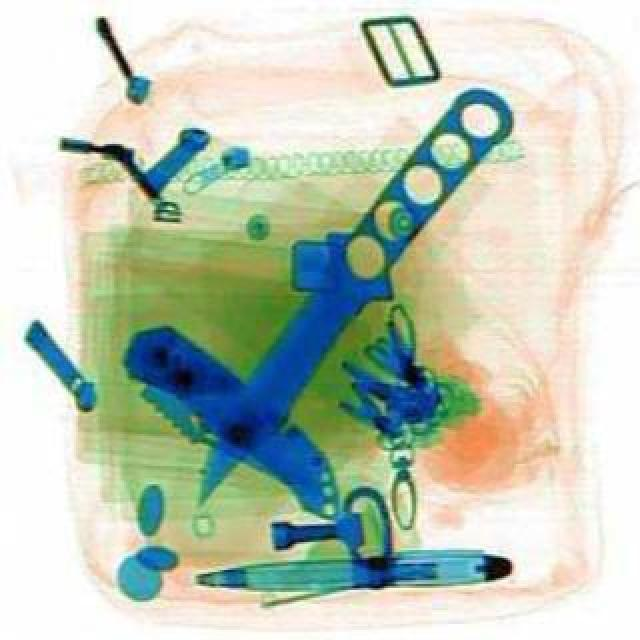knife: (152, 74, 522, 514), (98, 310, 372, 536)
